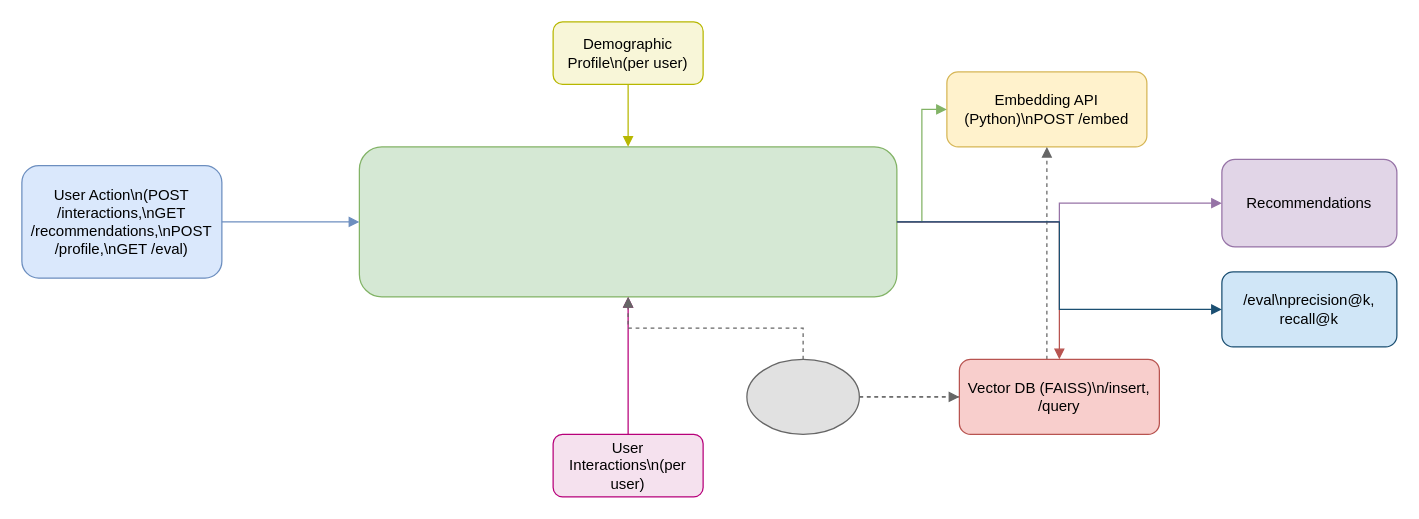
This 1419x519 diagram has some shape labels left out. Each missing label, with the centre of its shape:
"Go Backend\n(cmd/backend)\n/interactions\n/recommendations\n/profile\n/eval" goes at pixel 627 221.
"Periodic Job\n(Refresh Embeddings)" goes at pixel 802 396.
